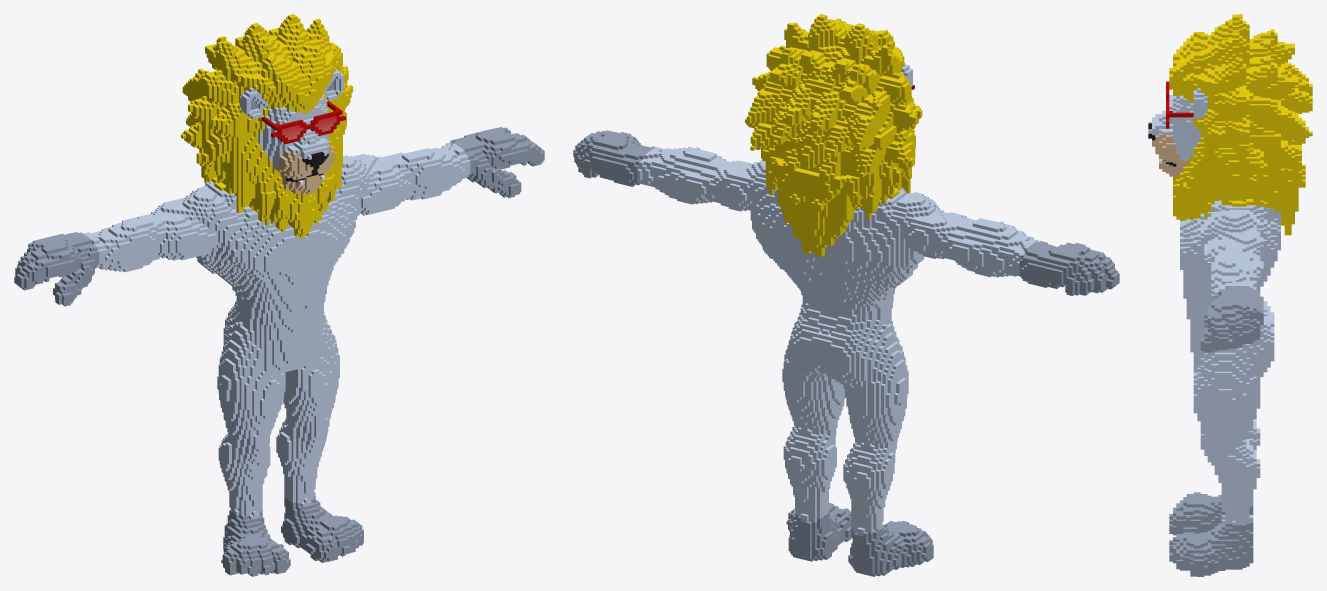
Rendered from 593-BYxKePXg.glb.
3 renders of one model, left to right at view 1: azimuth 30°, elevation 25°; view 2: azimuth 150°, elevation 25°; view 3: azimuth 270°, elevation 25°, orthographic. The views are drawn at different scales.
Visible parts, largest first — view 1: standard; view 2: standard; view 3: standard.
Boxes of the visible parts, x1,y1,x2,y2 form: standard: [14, 14, 544, 576]; standard: [573, 14, 1119, 576]; standard: [1148, 14, 1312, 576].
Size of the model in its own units: 17.2 by 16.5 by 4.7.
Materials: 4 (4 with a texture image).
